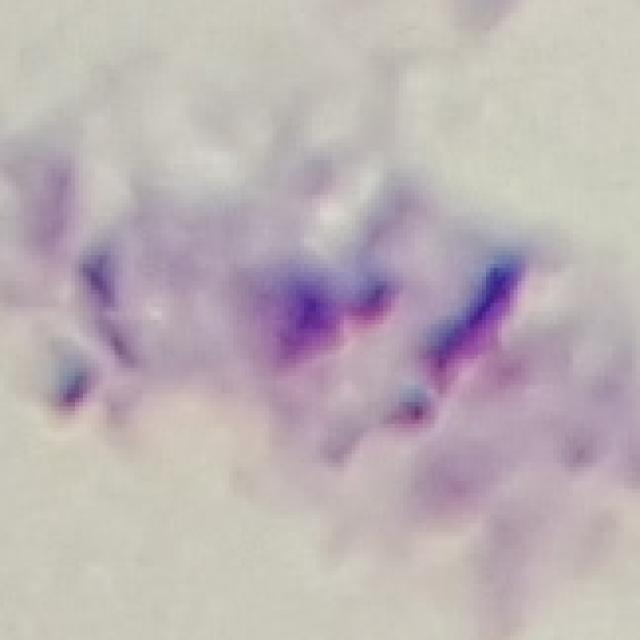non-sperm: (85, 198, 550, 422)
